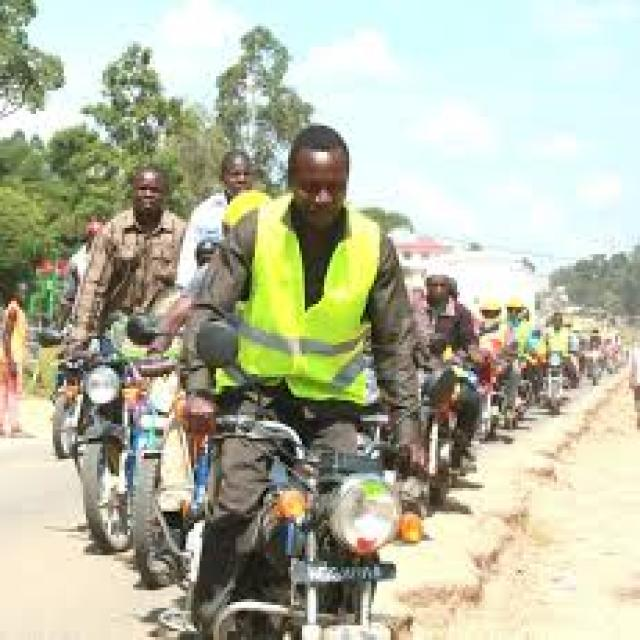bodaboda: (136, 275, 496, 640)
